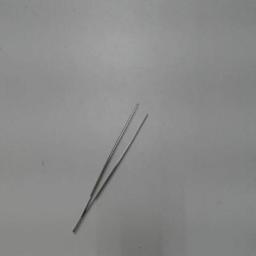Gillies Toothed Dissector: (67, 102, 155, 240)
